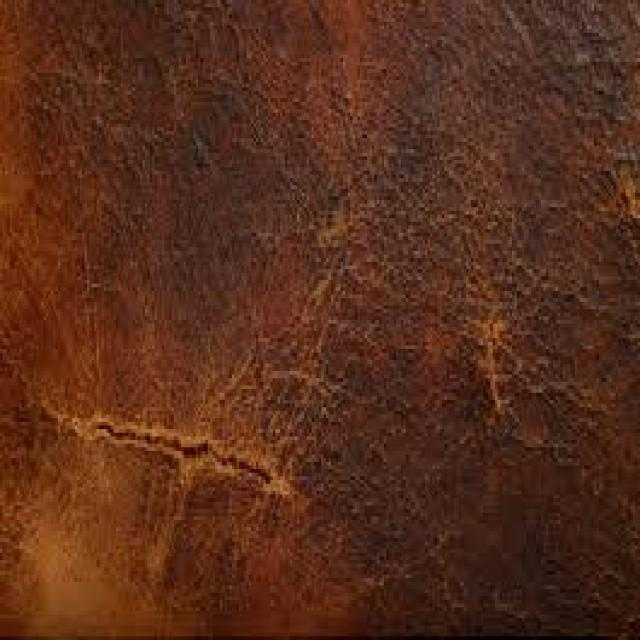Rotten surface: (326, 209, 548, 426), (374, 40, 611, 216)
Scratch: (64, 367, 315, 562)
